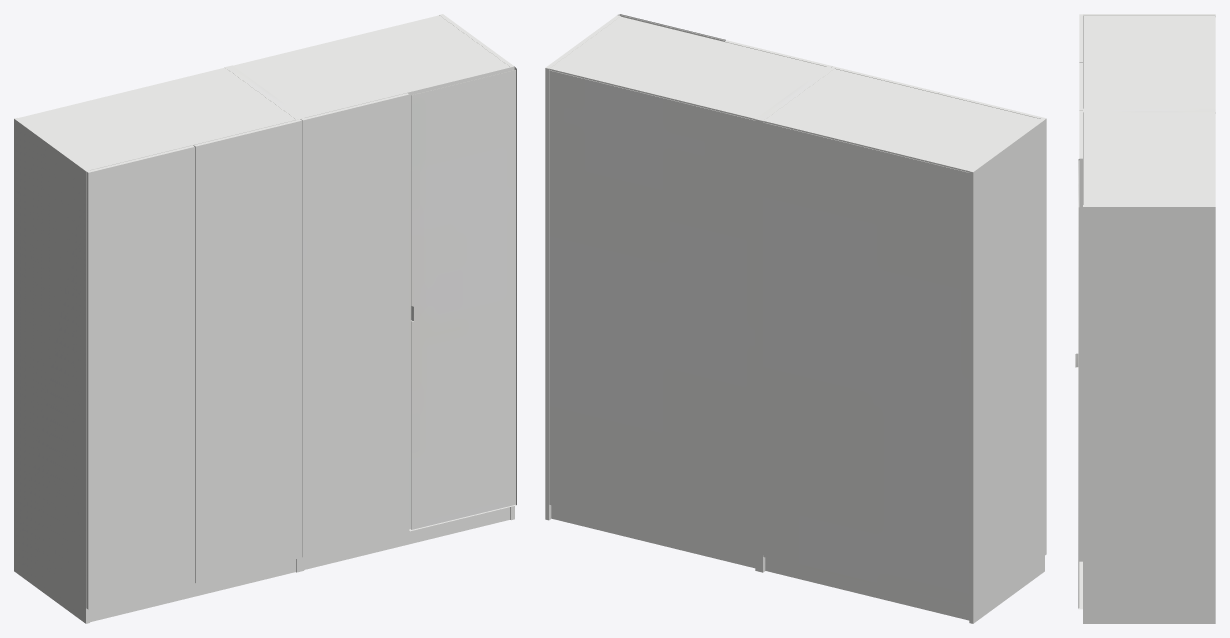
Rendered from pax_fardal_aheim_kombinacja_szafy_69395674.glb.
3 views of the same model, side by side, from view 1: azimuth 30°, elevation 25°; view 2: azimuth 150°, elevation 25°; view 3: azimuth 270°, elevation 25° (orthographic). The views are drawn at different scales.
Parts seen in each view (by area): view 1: pax_fardal_aheim_kombinacja_szafy_69395674; view 2: pax_fardal_aheim_kombinacja_szafy_69395674; view 3: pax_fardal_aheim_kombinacja_szafy_69395674.
Boxes of the visible parts, box(x1,y1,x2,y2) form: pax_fardal_aheim_kombinacja_szafy_69395674: box(14, 14, 516, 623); pax_fardal_aheim_kombinacja_szafy_69395674: box(545, 14, 1046, 623); pax_fardal_aheim_kombinacja_szafy_69395674: box(1075, 14, 1215, 623).
Bounding box in the file's own units: 2 × 2.01 × 0.6146.
Materials: 1 (1 with a texture image).
